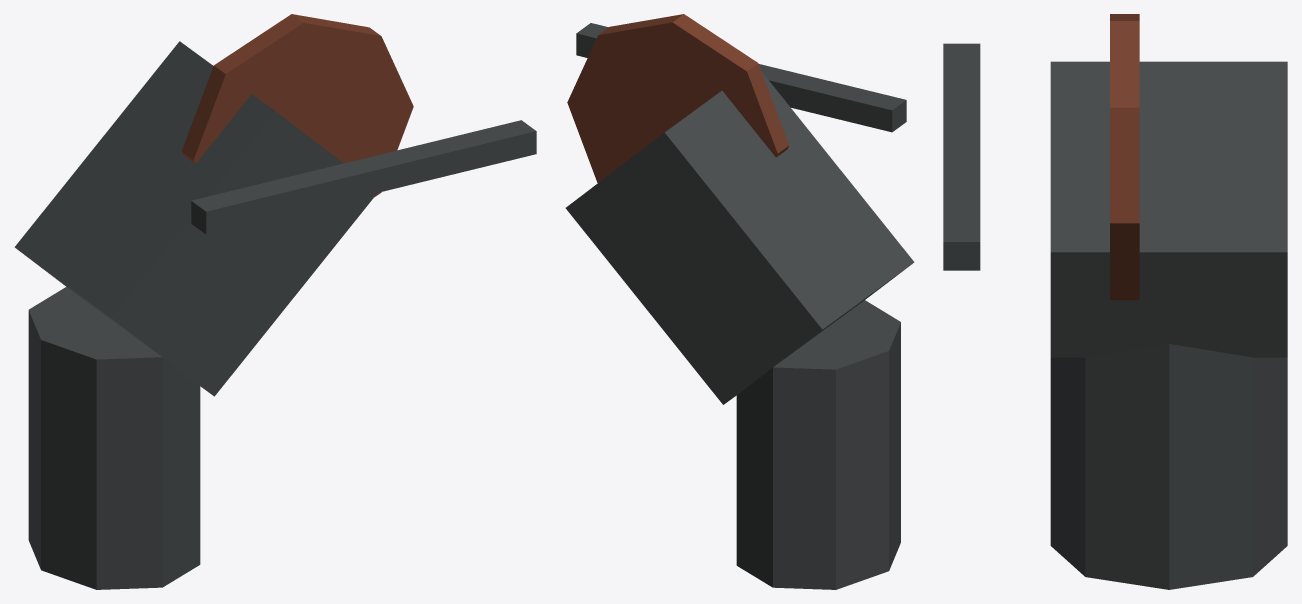
Rendered from pipe_elbow_valve.glb.
The picture shows the model from 3 angles, left to right: view 1: azimuth 30°, elevation 25°; view 2: azimuth 150°, elevation 25°; view 3: azimuth 270°, elevation 25°; orthographic projection. The views are drawn at different scales.
Visible parts, largest first — view 1: Codo, Tubo vertical, Volante, Radio; view 2: Codo, Tubo vertical, Volante, Radio; view 3: Codo, Tubo vertical, Radio, Volante.
Part boxes in pixels (bbox=[...]): Codo: bbox=[14, 41, 377, 396]; Tubo vertical: bbox=[28, 287, 200, 589]; Volante: bbox=[181, 14, 413, 197]; Radio: bbox=[191, 120, 536, 234]; Codo: bbox=[565, 72, 914, 404]; Tubo vertical: bbox=[736, 300, 900, 589]; Volante: bbox=[567, 14, 789, 182]; Radio: bbox=[576, 23, 906, 132]; Codo: bbox=[1050, 61, 1287, 357]; Tubo vertical: bbox=[1050, 344, 1287, 589]; Radio: bbox=[943, 43, 980, 270]; Volante: bbox=[1110, 14, 1139, 300].
Size of the model in its own units: 0.5 by 0.6 by 0.3.
